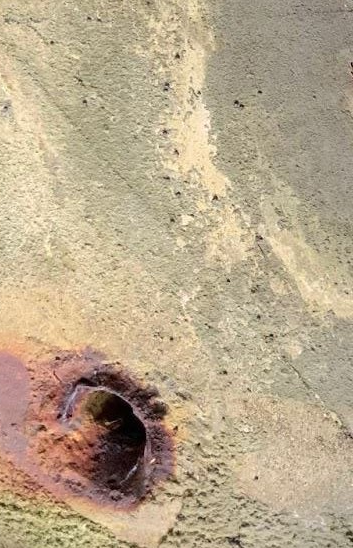Corrosion: (1, 343, 176, 514)
